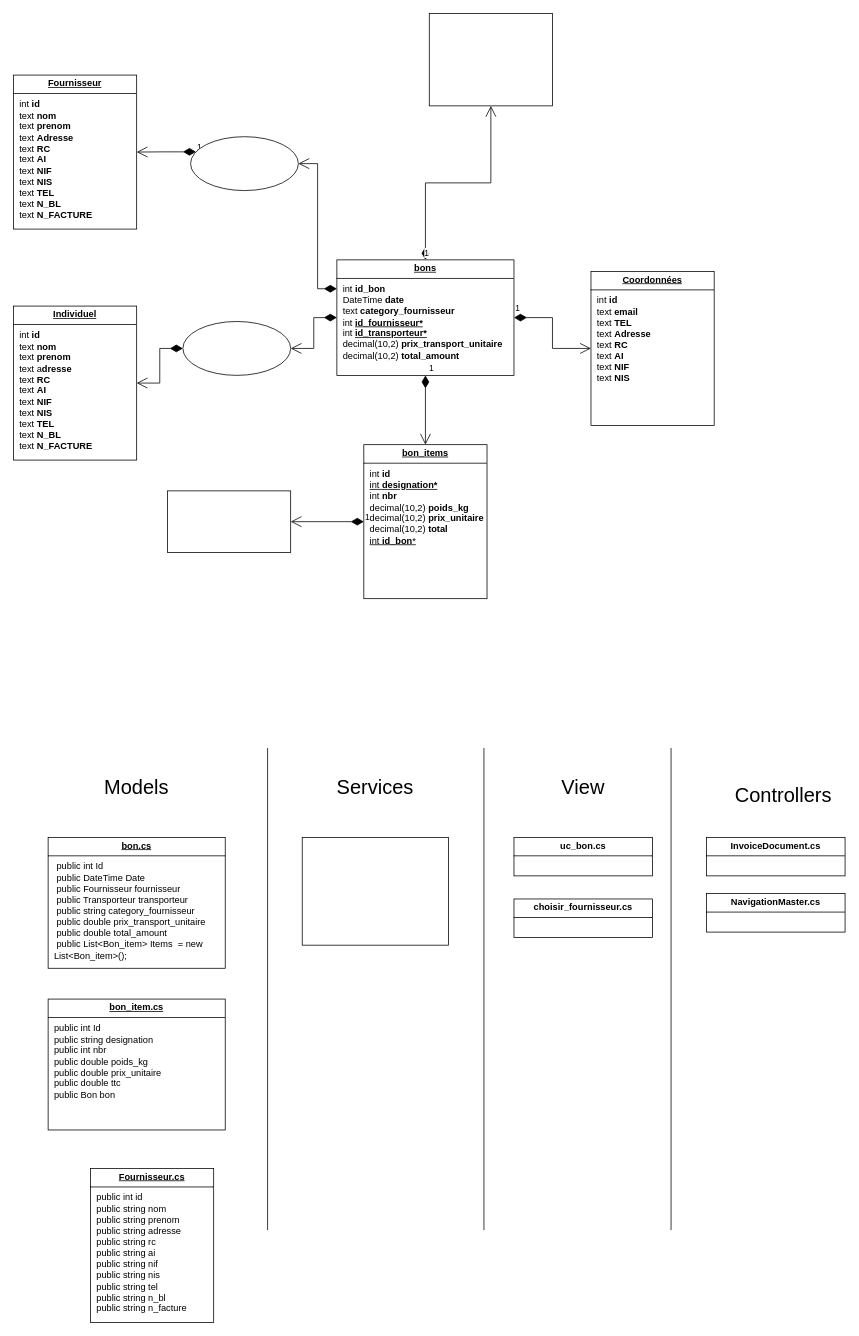
Image size: 859x1336. Some labels were removed from this diagram. The box of each missing label's shape, as (x1, y1, x2, y2) in pixels:
GestionX + addX(Object object): void + getX(Object object): void: (301, 837, 449, 945)
if(category_fournisseur= "fournisseur"): (190, 136, 298, 191)
if(category_fournisseur= "individuel"): (182, 321, 291, 375)
produit int id text designation: (167, 490, 291, 552)
Transporteur int id text nom text prenom text adresse text matricule text tel: (429, 13, 552, 106)
